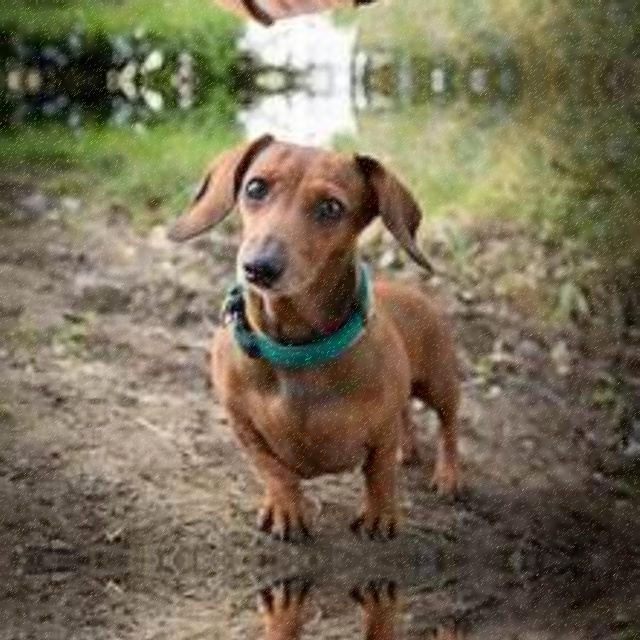dog: (157, 128, 459, 541), (157, 579, 460, 640), (157, 0, 460, 30)
